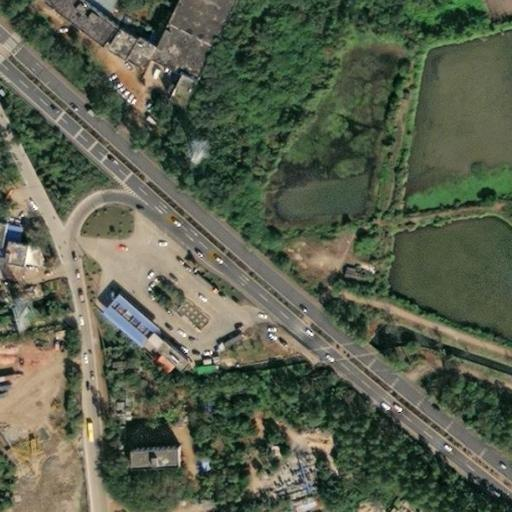building: (146, 0, 230, 74), (43, 0, 121, 52), (93, 288, 150, 342), (106, 34, 143, 69), (5, 292, 33, 330), (122, 433, 169, 454), (148, 336, 180, 364), (180, 132, 207, 163), (215, 325, 246, 352), (160, 78, 186, 103), (16, 241, 38, 264), (166, 65, 186, 84), (137, 29, 154, 47), (140, 326, 155, 341), (118, 25, 130, 37)
